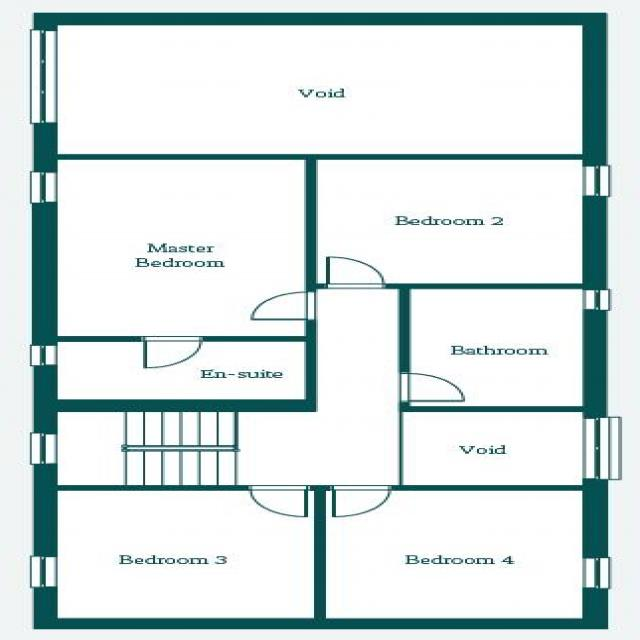DOOR: (396, 371, 468, 404), (321, 255, 387, 289), (139, 335, 205, 369), (245, 485, 311, 519), (247, 289, 317, 321), (328, 485, 395, 518)
ROOM: (31, 154, 318, 370), (31, 484, 328, 630), (314, 485, 609, 630), (305, 153, 609, 288)
